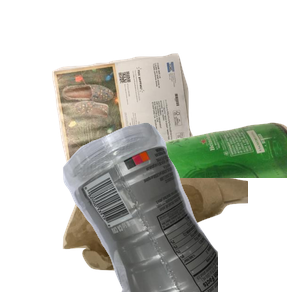glass: (60, 120, 300, 300)
paper: (49, 51, 235, 212)
plastic: (60, 120, 300, 300)
trash: (60, 142, 300, 300)
